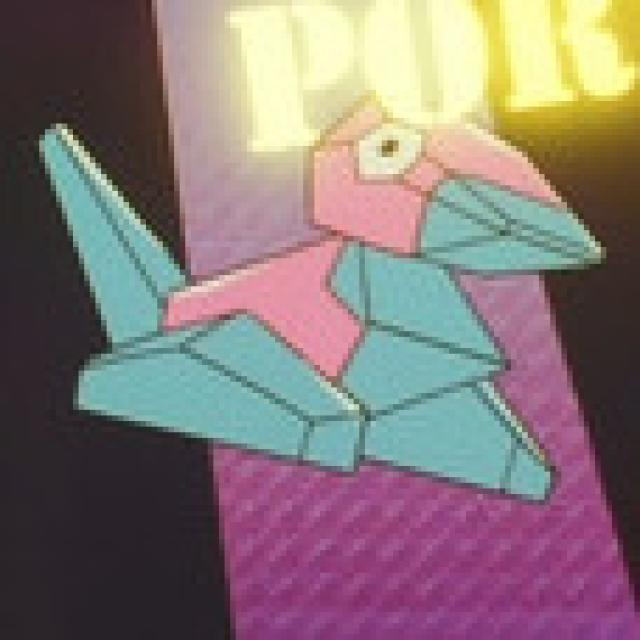Porygon: (42, 96, 566, 498)
